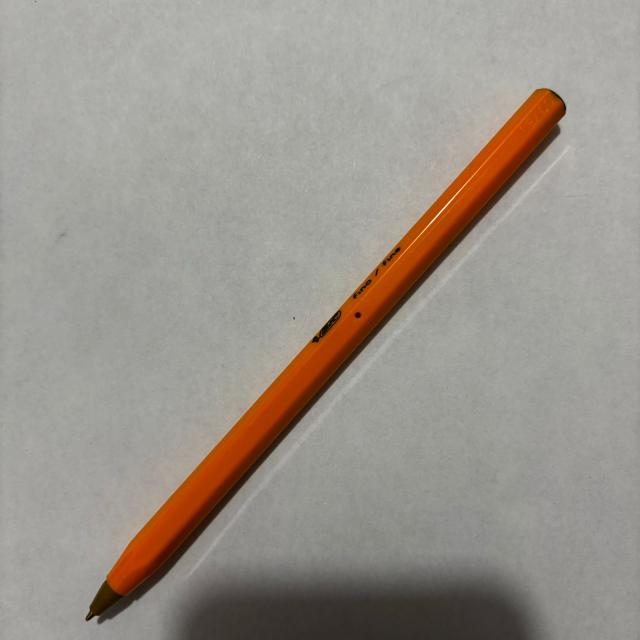pencil: (87, 88, 568, 624)
